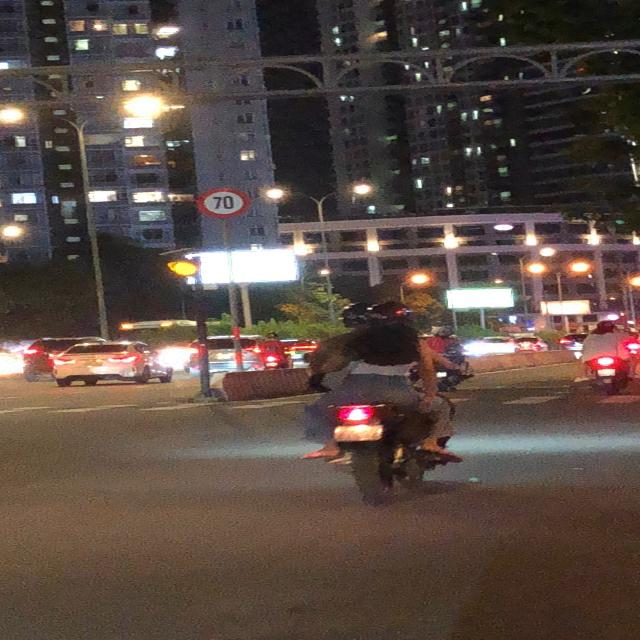Bien bao toc do toi da cho phep: (194, 184, 249, 221)
